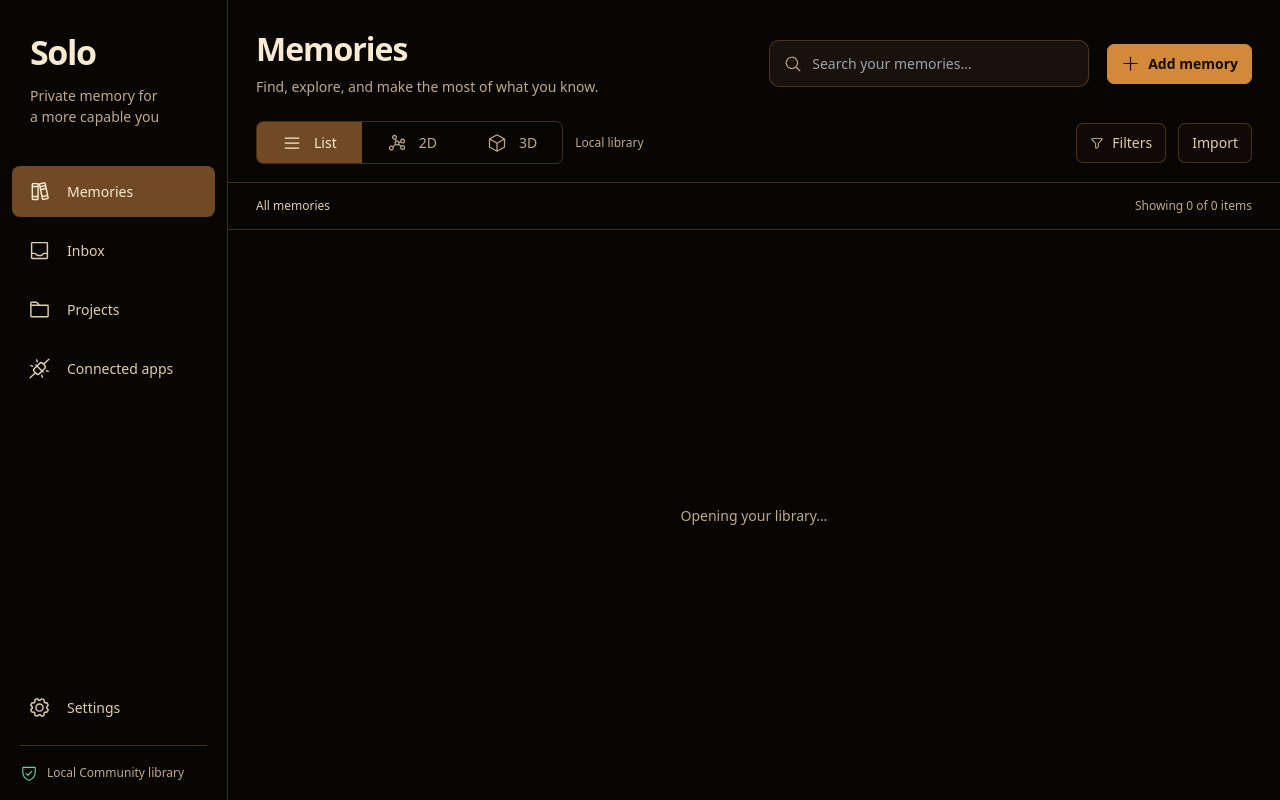
Test case: Solo Web host composition › shows no tab strip in Projects until a host adds a tab
The width and height of the screenshot is (1280, 800).
Click the button "Projects": click(114, 310) [12, 284, 215, 335]
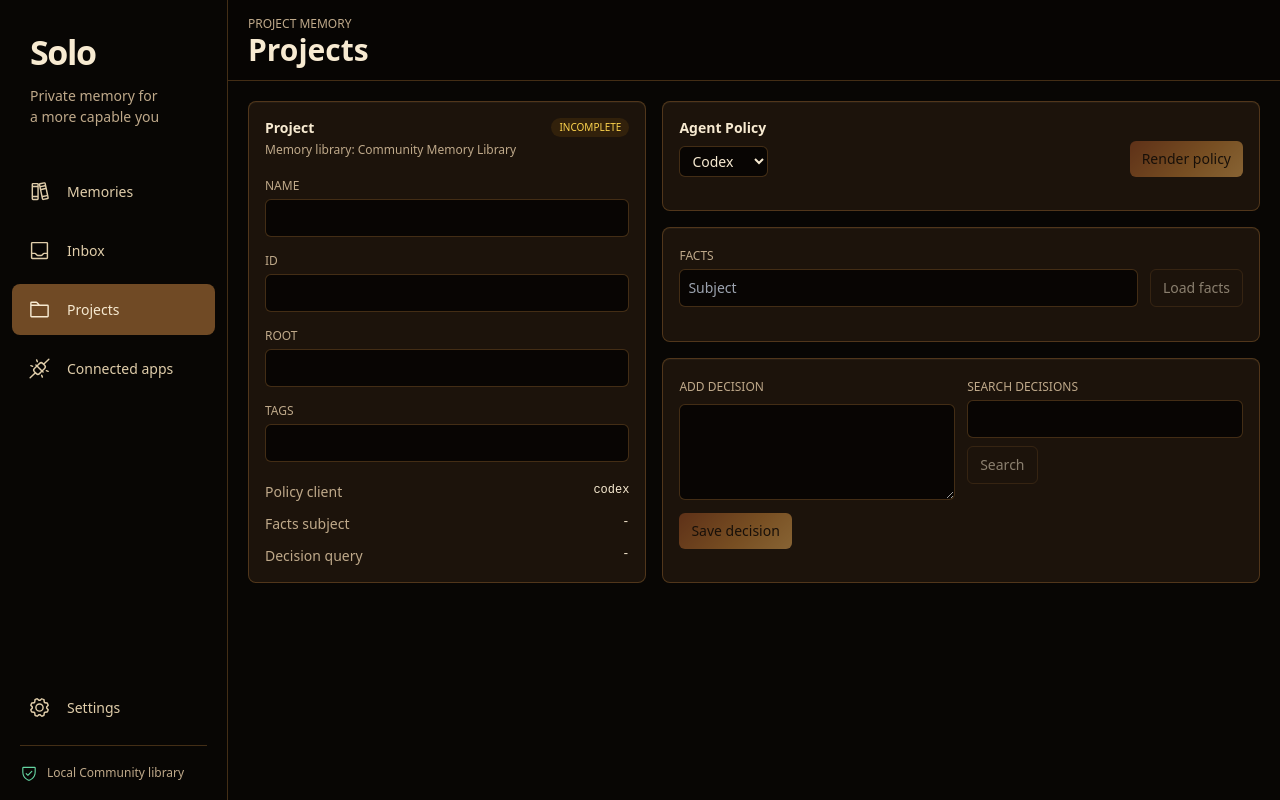
Now the heading "Project" is shown, box [265, 118, 314, 137]
